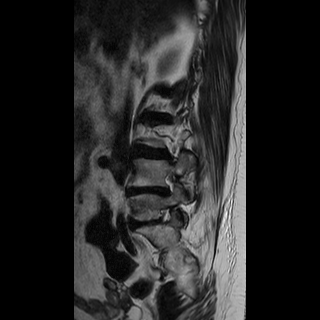RFS0: (155, 165, 183, 201)
